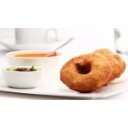vada: (62, 53, 111, 90)
